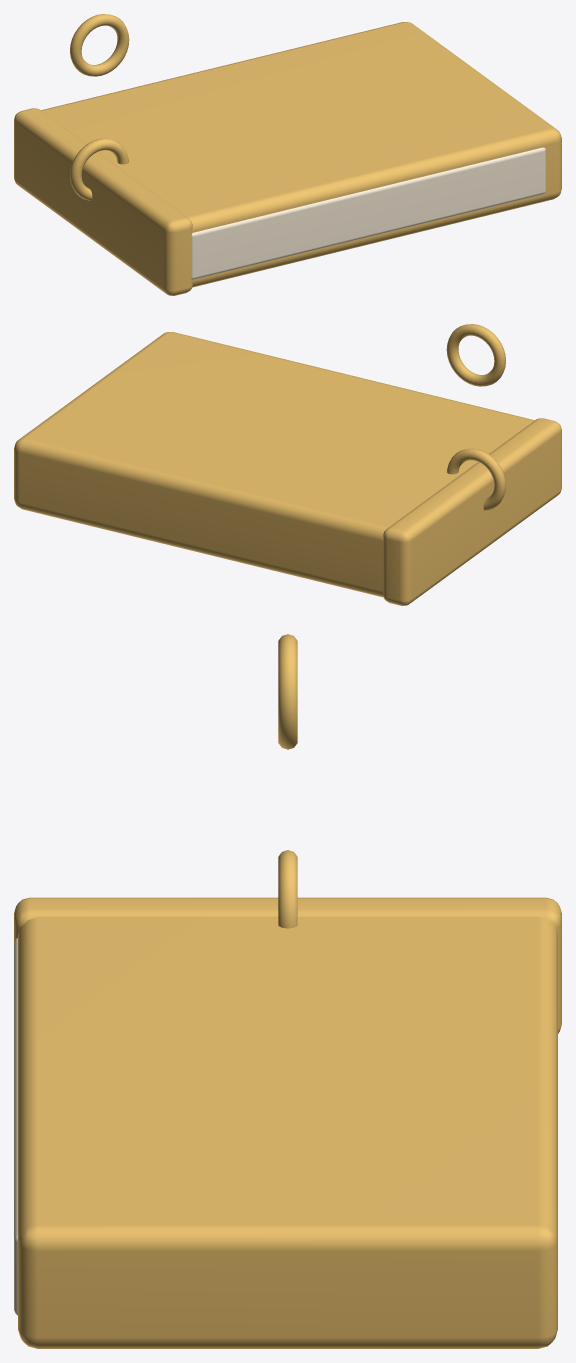
File: booksRingBinderYellow.glb
3 renders of one model, top to bottom at view 1: azimuth 30°, elevation 25°; view 2: azimuth 150°, elevation 25°; view 3: azimuth 270°, elevation 25°, orthographic. The views are drawn at different scales.
Parts seen in each view (by area): view 1: Book cover, Pages, Spine, Binder ring.001, Binder ring; view 2: Book cover, Spine, Binder ring.001, Binder ring; view 3: Book cover, Spine, Binder ring.001, Binder ring, Pages.
Part boxes in pixels (x1,y1,x2,y2): Book cover: [41, 22, 561, 287]; Pages: [191, 147, 545, 279]; Spine: [14, 108, 192, 295]; Binder ring.001: [70, 14, 129, 76]; Binder ring: [70, 138, 128, 200]; Book cover: [14, 332, 534, 597]; Spine: [383, 418, 561, 605]; Binder ring.001: [446, 324, 505, 386]; Binder ring: [447, 448, 505, 510]; Book cover: [18, 916, 557, 1348]; Spine: [14, 897, 561, 1033]; Binder ring.001: [278, 634, 297, 749]; Binder ring: [278, 850, 297, 928]; Pages: [14, 938, 17, 1315].
Bounding box in the file's own units: 1.05 × 0.543 × 0.69.
